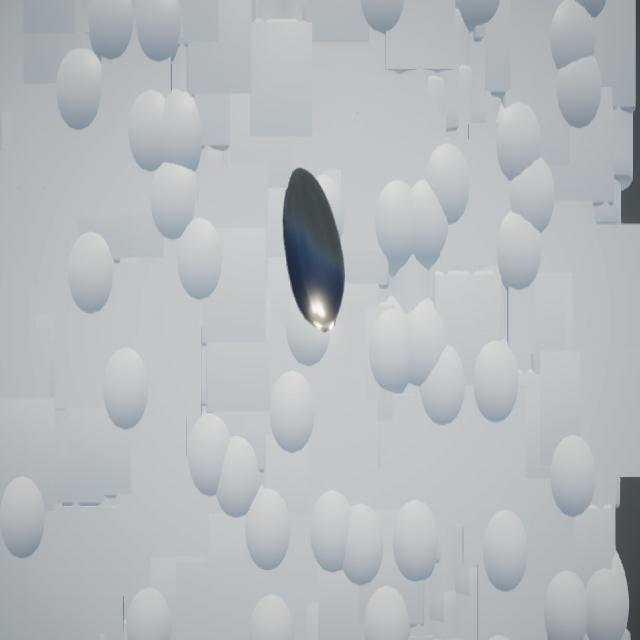top_spoon: (283, 169, 346, 334)
